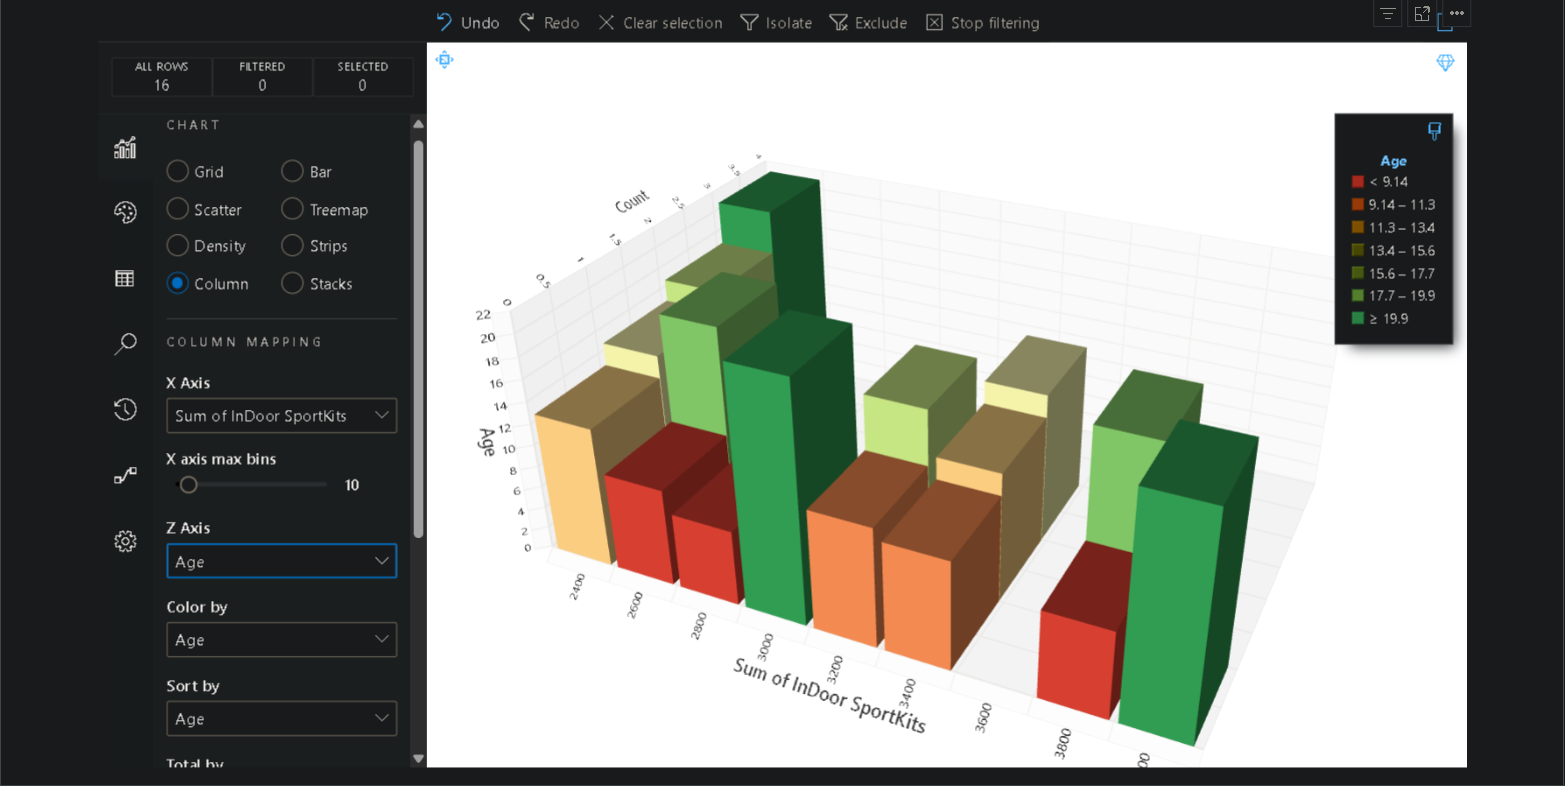

This screenshot's page, from the dashboard's own definition file:
{"tool":"powerbi","page":{"name":"Page 3","canvas":[1280,720],"ordinal":2},"visuals":[{"type":"SandDance201929976D117A654D0BAB8E96507442D80B","fields":{"values":["Sum(Student Survey.InDoor SportKits)","Sum(Student Survey.VideoGames)","Student Survey.Age"]},"box":[10.5,0,1260.5,709.3],"z":0}]}

Visuals, with their boxes on the page's 1280x720 design canvas (x1, y1, x2, y2). These are canvas units, not pixel positions in the 1565x786 screenshot, which may show the page scaled, cropped or inside an application window:
SandDance201929976D117A654D0BAB8E96507442D80B - Sum(Student Survey.InDoor SportKits) x Sum(Student Survey.VideoGames): bbox=[10, 0, 1271, 709]
